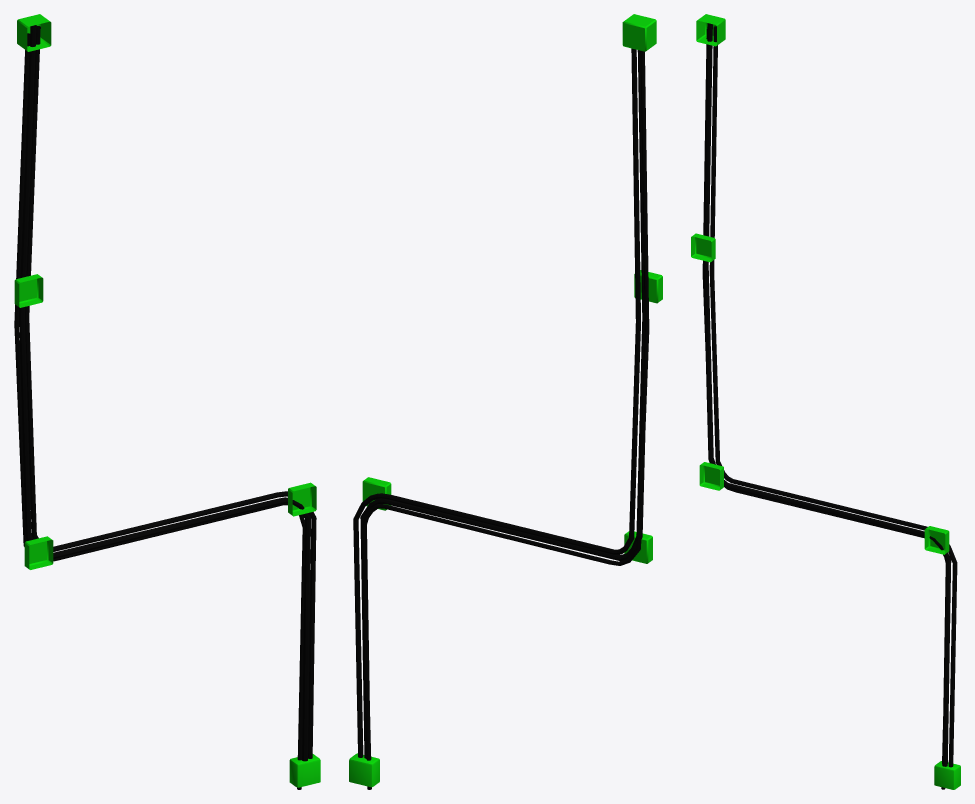
The model's file is CablesModelV3.fbx.
3 renders of one model, left to right at view 1: azimuth 30°, elevation 25°; view 2: azimuth 150°, elevation 25°; view 3: azimuth 330°, elevation 25°, orthographic. The views are drawn at different scales.
Parts seen in each view (by area): view 1: CablesModelV3; view 2: CablesModelV3; view 3: CablesModelV3.
Boxes of the visible parts, bbox=[...] form: CablesModelV3: bbox=[14, 14, 320, 789]; CablesModelV3: bbox=[349, 14, 662, 789]; CablesModelV3: bbox=[691, 14, 960, 789].
Size of the model in its own units: 129 by 339 by 9.1.
